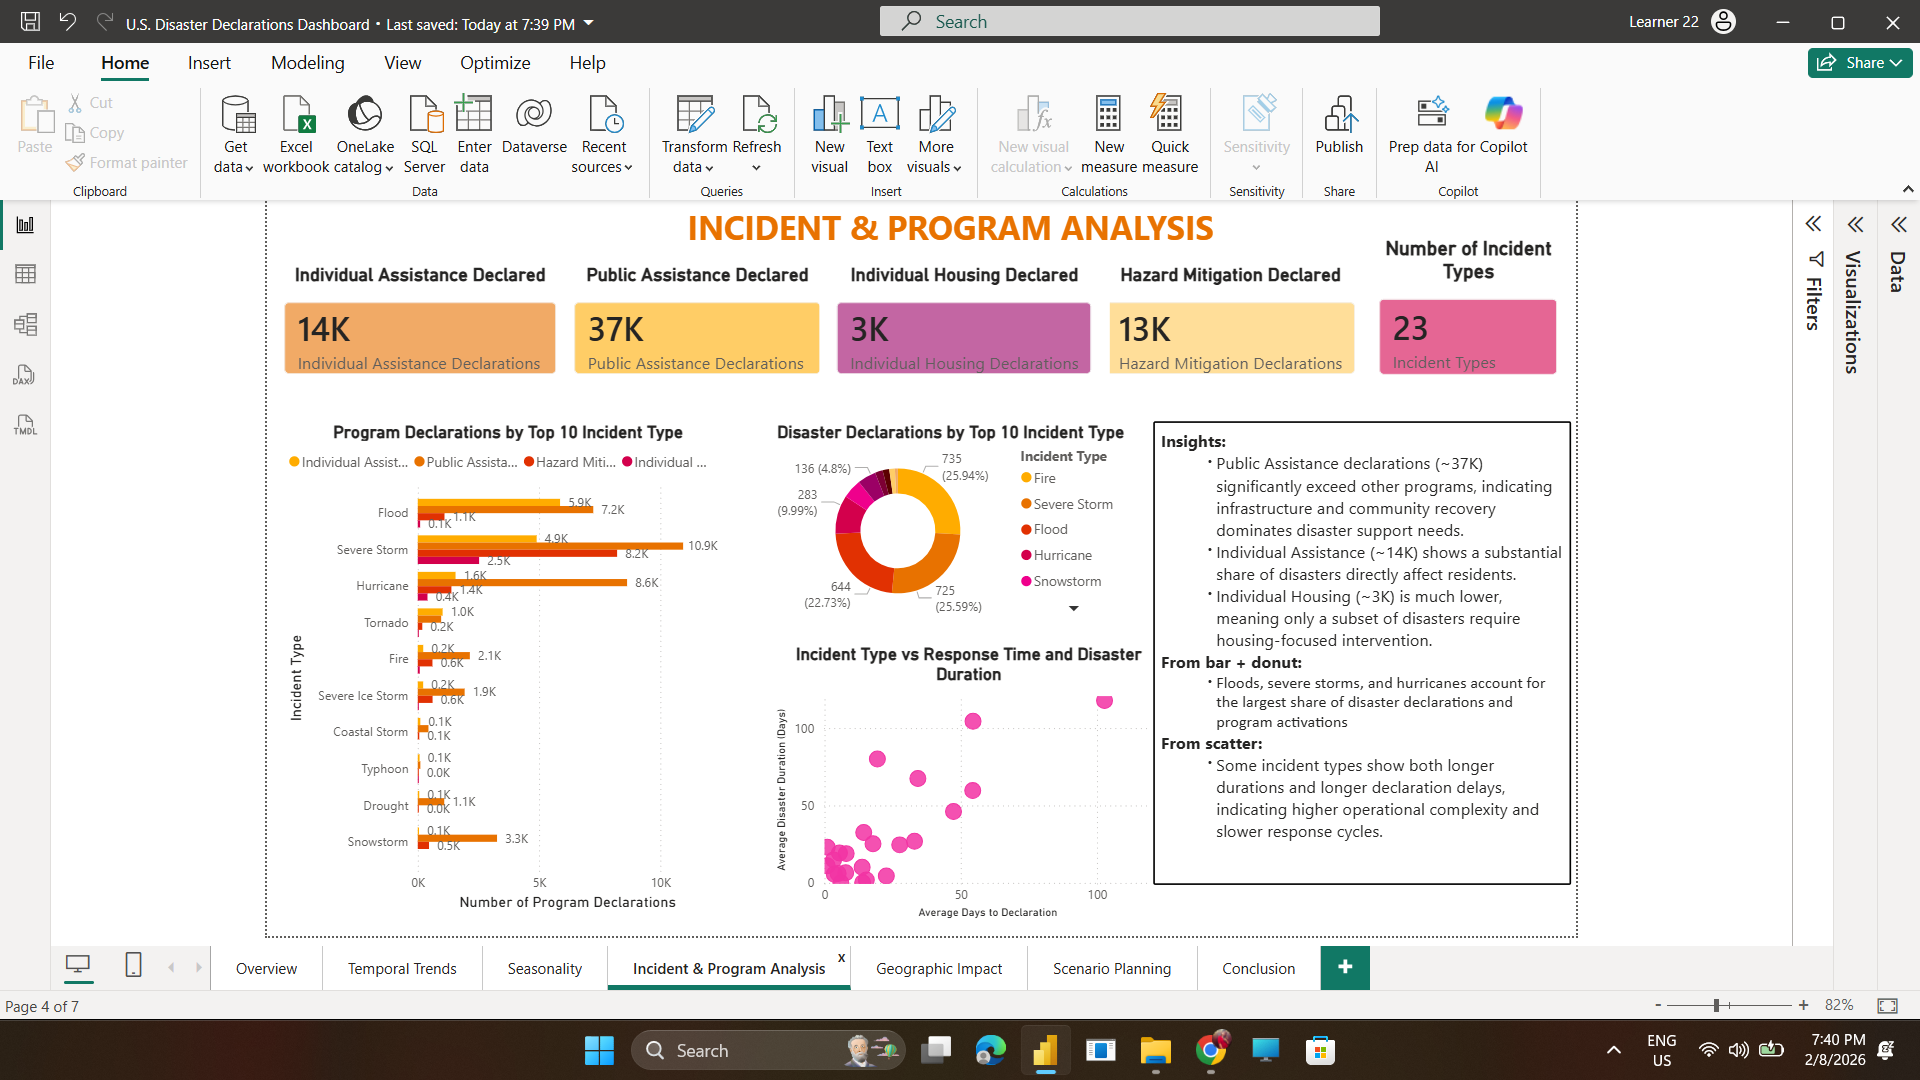

Layout of this report page (visuals, bound fields, positions):
{"tool":"powerbi","page":{"name":"Incident & Program Analysis","canvas":[1280,720],"ordinal":3},"visuals":[{"type":"clusteredBarChart","title":"Program Declarations by Top 10 Incident Type","fields":{"Category":["US Disaster_Declarations.incident_type"],"Y":["US Disaster_Declarations.total_IA","US Disaster_Declarations.Total_PA","US Disaster_Declarations.Total_HM","US Disaster_Declarations.Total_IH"]},"box":[15.9,216.4,440.2,483],"z":0},{"type":"scatterChart","title":"Incident Type vs Response Time and Disaster Duration","fields":{"X":["US Disaster_Declarations.Average_Time_to_Declaration"],"Y":["US Disaster_Declarations.Average_Disaster_Duration"],"Category":["US Disaster_Declarations.incident_type"]},"box":[492.8,434.1,387.6,273.9],"z":1000},{"type":"donutChart","title":"Disaster Declarations by Top 10 Incident Type","fields":{"Y":["US Disaster_Declarations.Total_Disasters"],"Category":["US Disaster_Declarations.incident_type"]},"box":[492.8,216.4,352.2,195.7],"z":2000},{"type":"cardVisual","title":"Individual Assistance Declared","fields":{"Data":["US Disaster_Declarations.total_IA"]},"box":[0,62.5,300,125],"z":3000},{"type":"cardVisual","title":"Public Assistance Declared","fields":{"Data":["US Disaster_Declarations.Total_PA"]},"box":[283.8,62.5,275,125],"z":4000},{"type":"cardVisual","title":"Hazard Mitigation Declared","fields":{"Data":["US Disaster_Declarations.Total_HM"]},"box":[803.8,62.5,278.8,125],"z":5000},{"type":"cardVisual","title":"Individual Housing Declared","fields":{"Data":["US Disaster_Declarations.Total_IH"]},"box":[540,62.5,283.8,125],"z":6000},{"type":"cardVisual","title":"Number of Incident Types","fields":{"Data":["Count(US Disaster_Declarations.incident_type)"]},"box":[1071.2,36.2,208.8,151.2],"z":7000},{"type":"textbox","box":[393.8,0,550,52.5],"z":8000},{"type":"textbox","box":[867,216.4,408.4,453.7],"z":9000}]}

Visuals, with their boxes on the page's 1280x720 design canvas (x1, y1, x2, y2). These are canvas units, not pixel positions in the 1920x1080 screenshot, which may show the page scaled, cropped or inside an application window:
"Program Declarations by Top 10 Incident Type" clusteredBarChart: (left=16, top=216, right=456, bottom=699)
"Incident Type vs Response Time and Disaster Duration" scatterChart: (left=493, top=434, right=880, bottom=708)
"Disaster Declarations by Top 10 Incident Type" donutChart: (left=493, top=216, right=845, bottom=412)
"Individual Assistance Declared" cardVisual: (left=0, top=62, right=300, bottom=188)
"Public Assistance Declared" cardVisual: (left=284, top=62, right=559, bottom=188)
"Hazard Mitigation Declared" cardVisual: (left=804, top=62, right=1083, bottom=188)
"Individual Housing Declared" cardVisual: (left=540, top=62, right=824, bottom=188)
"Number of Incident Types" cardVisual: (left=1071, top=36, right=1280, bottom=187)
textbox: (left=394, top=0, right=944, bottom=52)
textbox: (left=867, top=216, right=1275, bottom=670)
